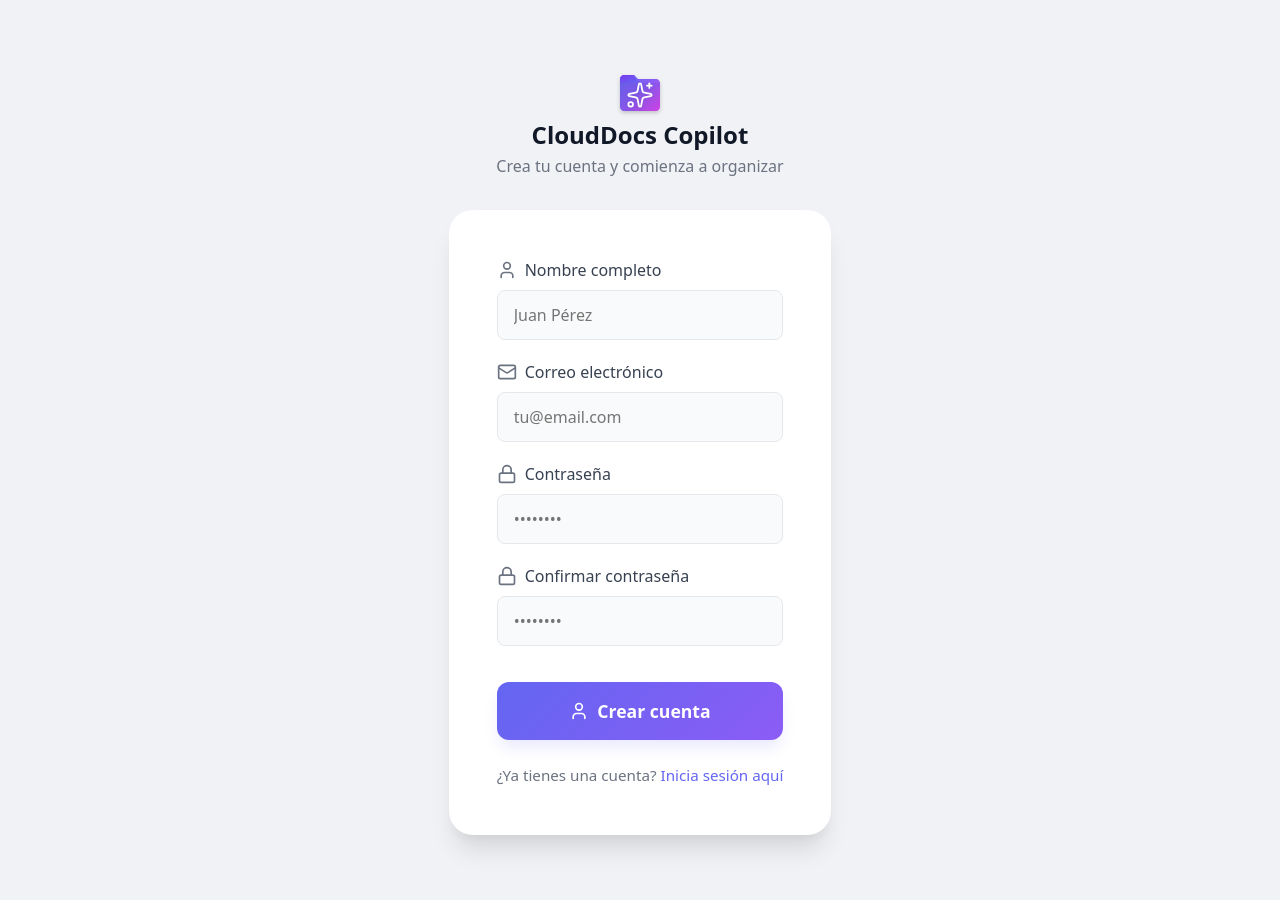
Test case: RegisterForm validation branches › shows correct error message for 409 (email already registered)
This screenshot has width=1280, height=900.
Type "Name" into the field with placeholder "Juan Pérez" at {"x": 640, "y": 315}, box [497, 290, 783, 340]
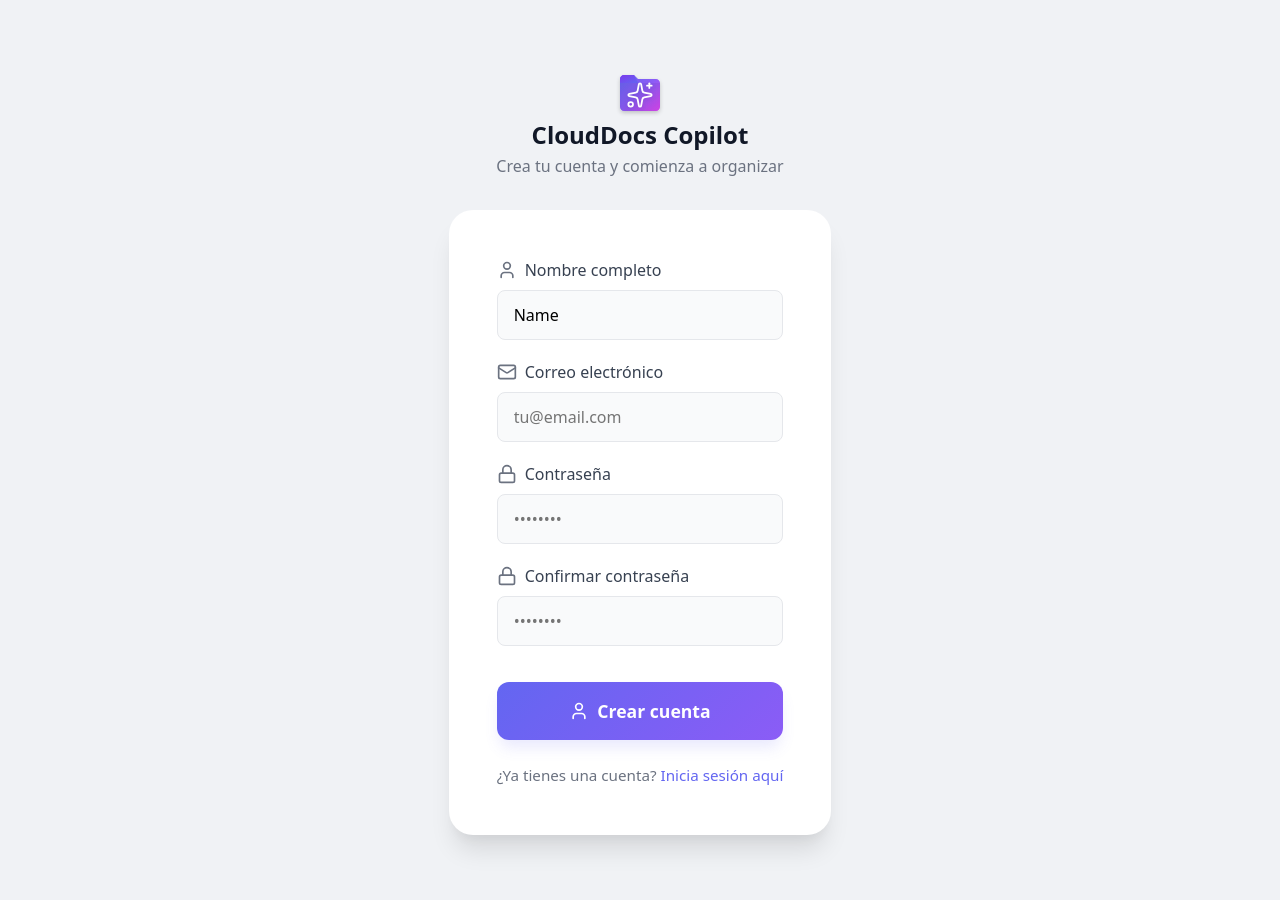
Type "existing@e.com" into the field with placeholder "tu@email.com" at {"x": 640, "y": 417}, box [497, 392, 783, 442]
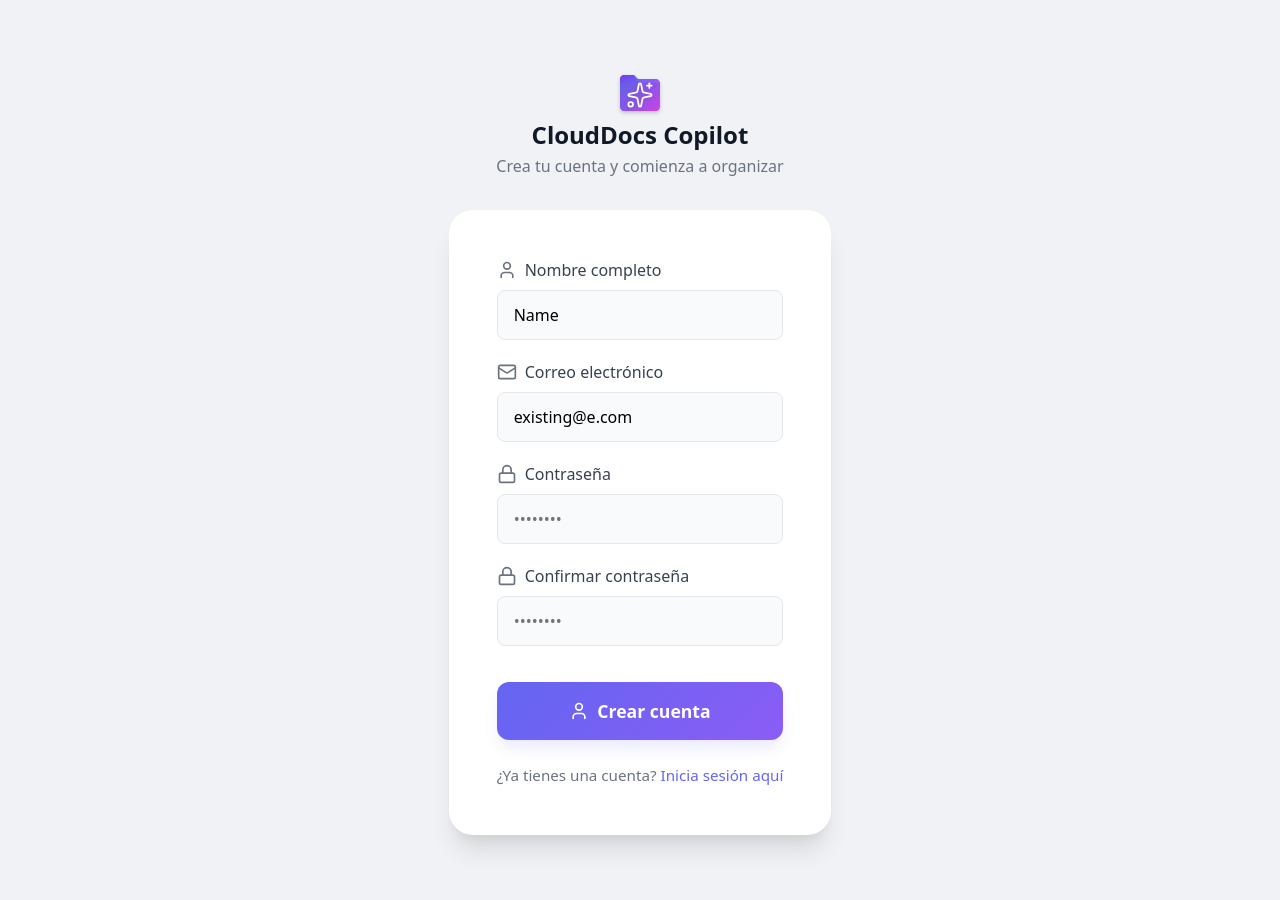
Type "P@ssw0rd!" into the 1st password field with placeholder "••••••••" at {"x": 640, "y": 519}, box [497, 494, 783, 544]
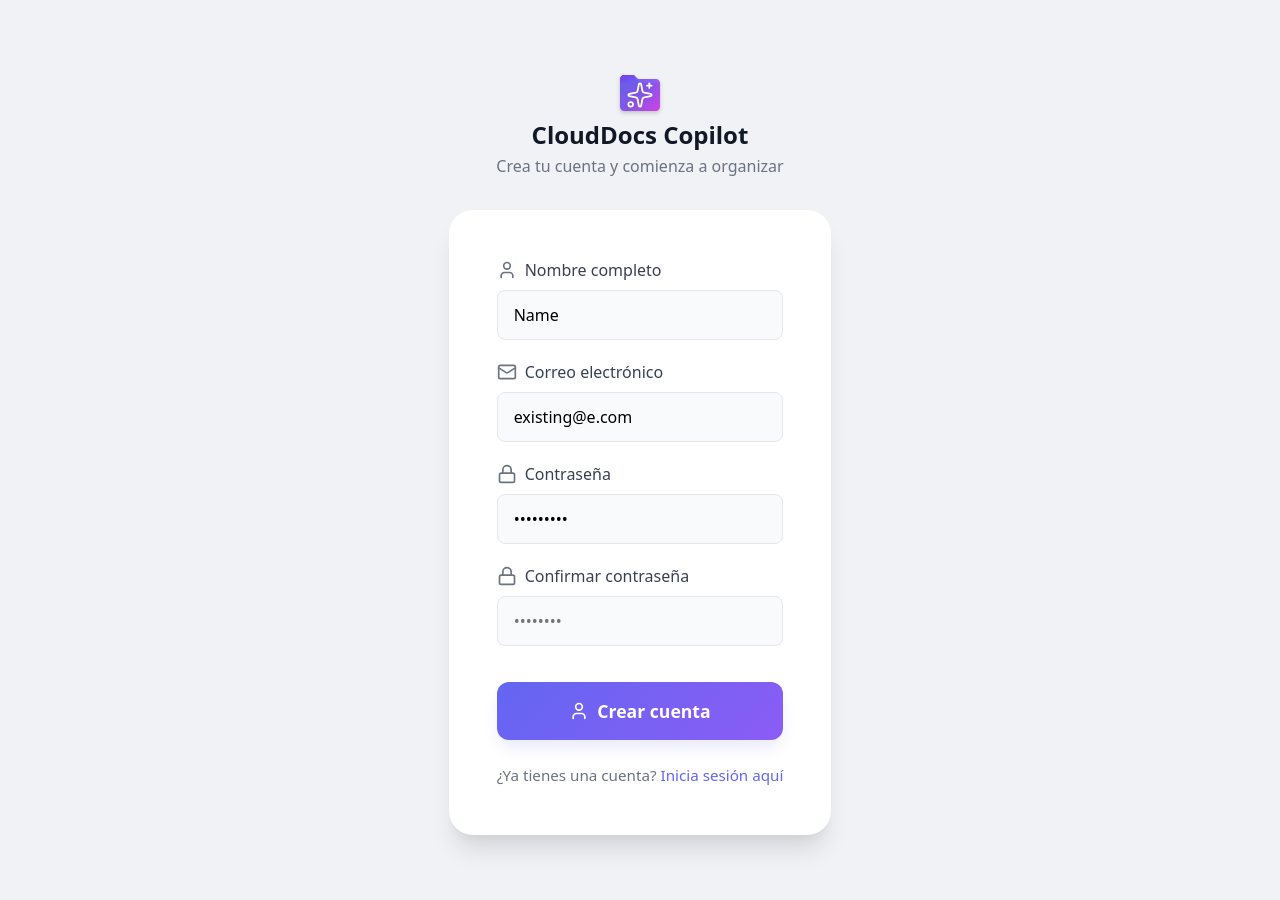
Type "P@ssw0rd!" into the password field with placeholder "••••••••" at {"x": 640, "y": 621}, box [497, 596, 783, 646]
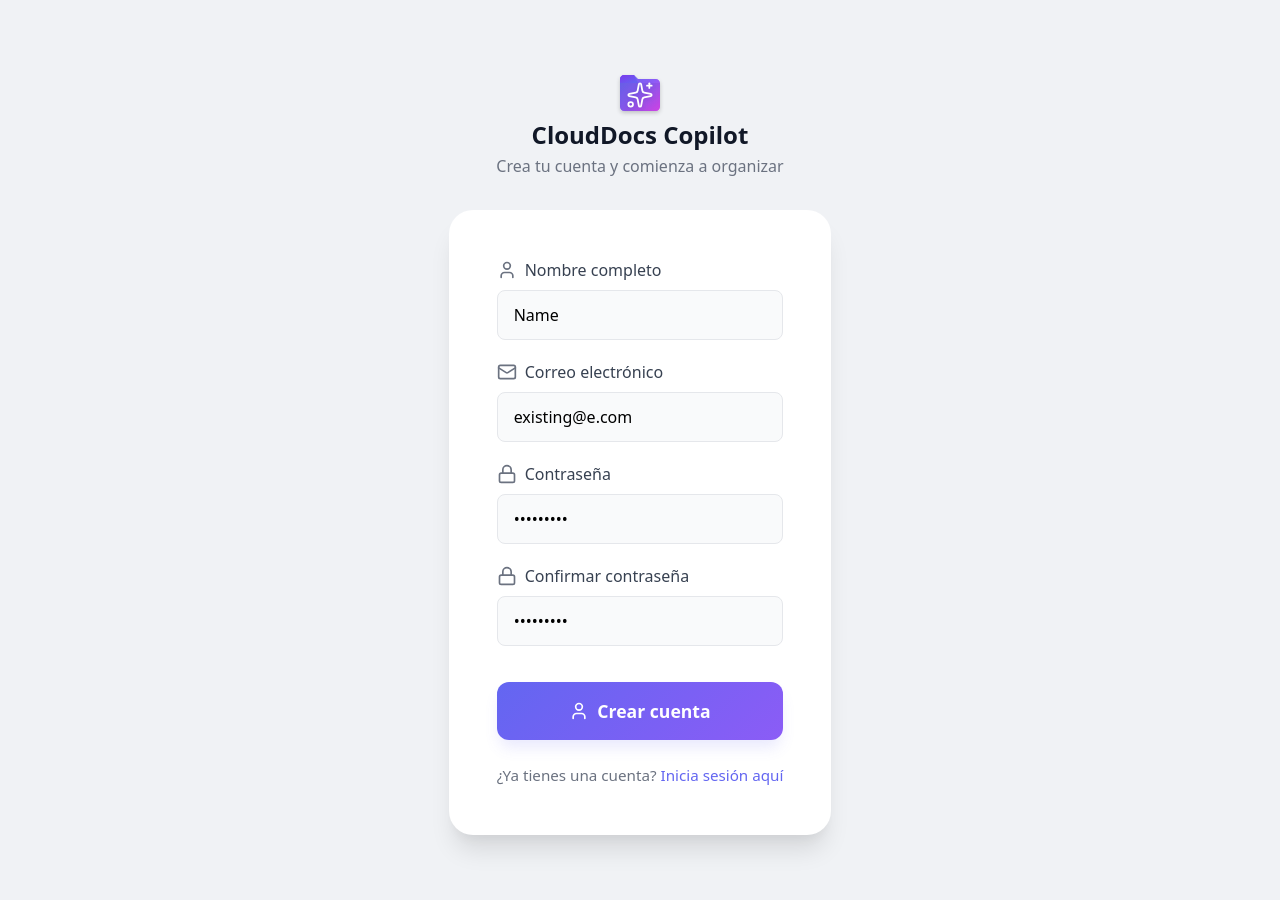
Click the button "Crear cuenta" at {"x": 640, "y": 711}, box [497, 682, 783, 740]
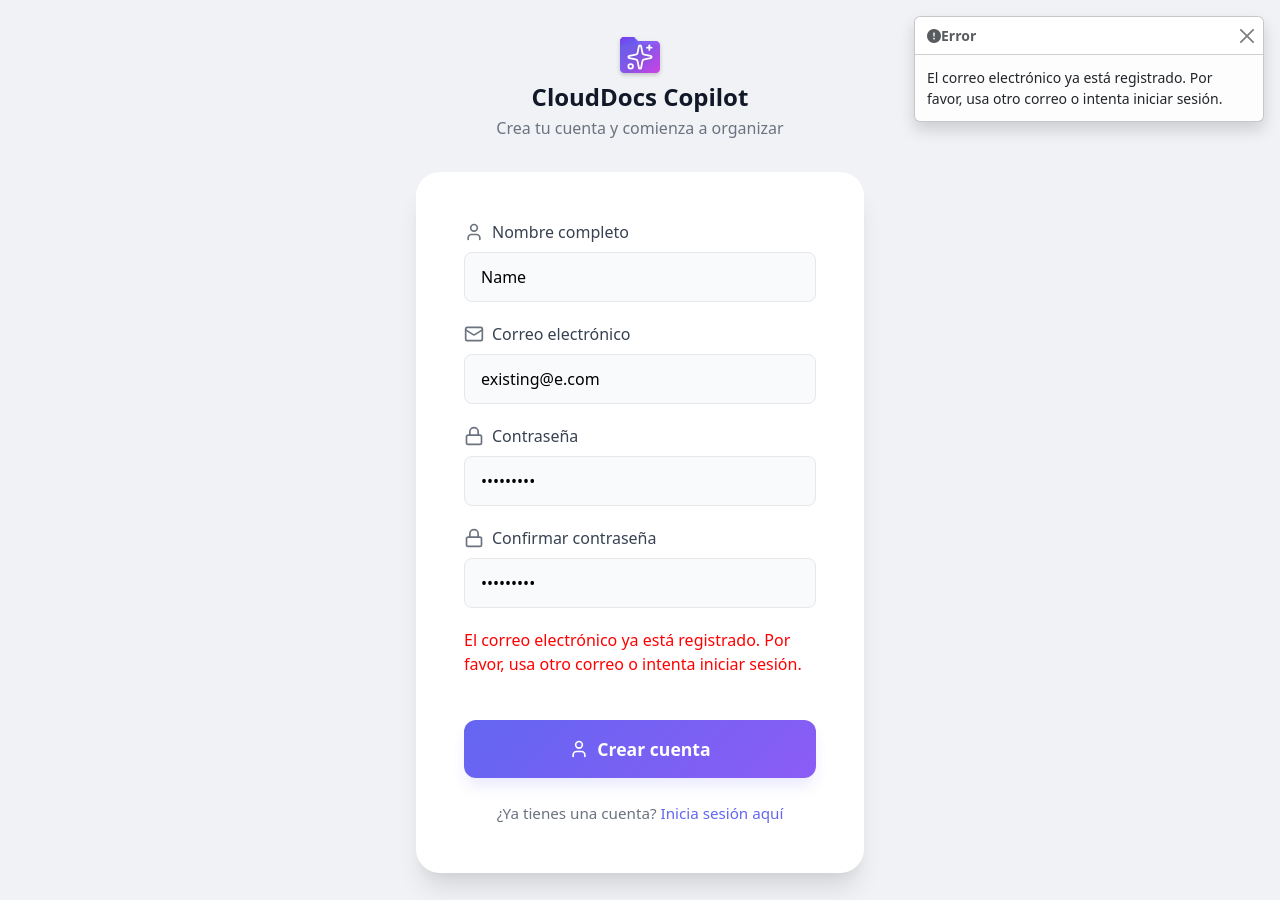
Check: the text "El correo electrónico ya está registrado" below "Confirmar contraseña" is shown, box [464, 629, 802, 675]
